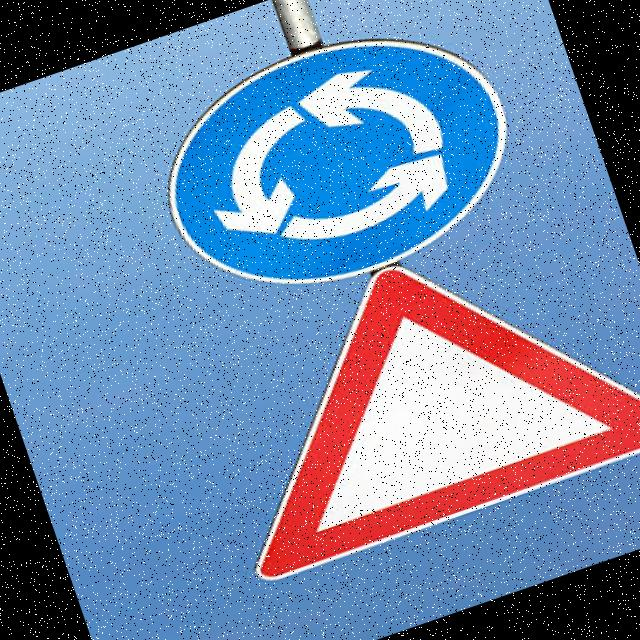give_way: (142, 188, 640, 614)
